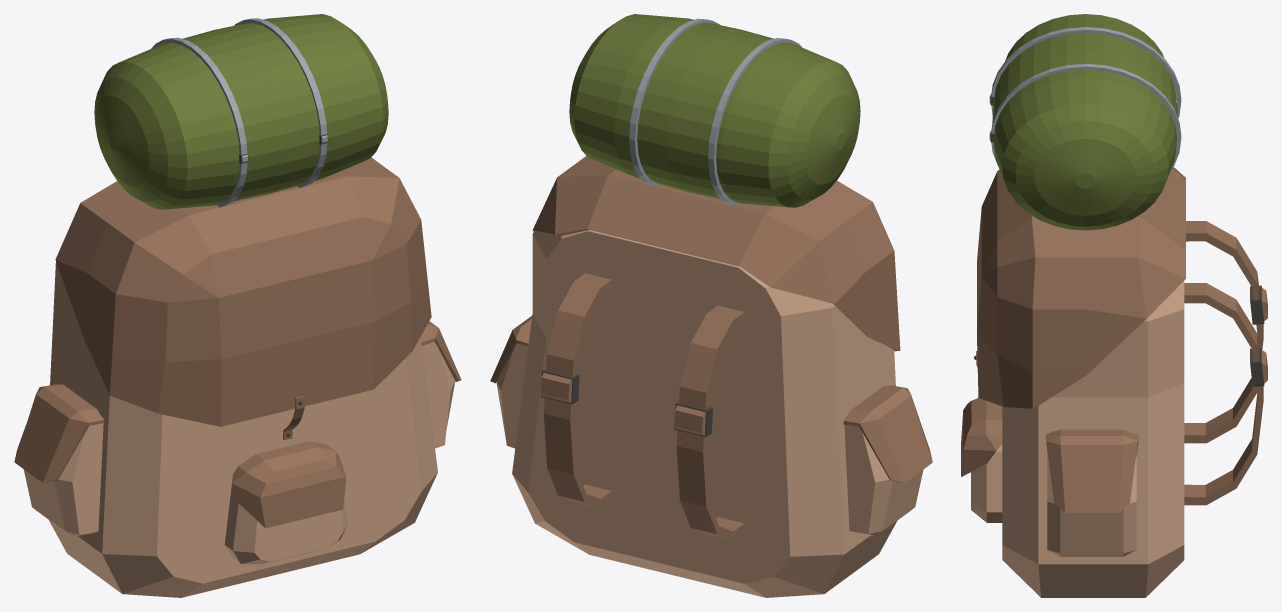
The model's file is Backpack w_ Sleeping bag.fbx.
3 views of the same model, side by side, from view 1: azimuth 30°, elevation 25°; view 2: azimuth 150°, elevation 25°; view 3: azimuth 270°, elevation 25° (orthographic). The views are drawn at different scales.
Parts seen in each view (by area): view 1: Backpack; view 2: Backpack; view 3: Backpack.
Boxes of the visible parts, <box> form: Backpack: <box>14,14,461,597</box>; Backpack: <box>490,14,932,597</box>; Backpack: <box>961,14,1267,597</box>.
Bounding box in the file's own units: 261 × 311 × 175.
